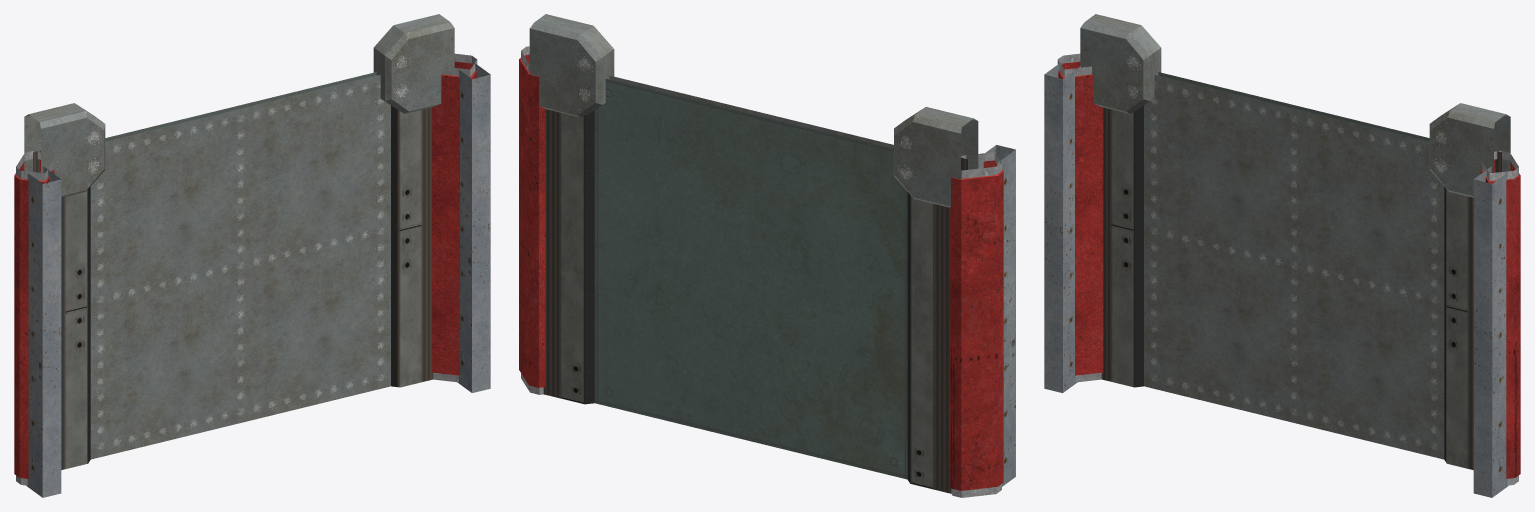
Rendered from Ob_PillarRedWall_RC.fbx.
The picture shows the model from 3 angles, left to right: view 1: azimuth 30°, elevation 25°; view 2: azimuth 150°, elevation 25°; view 3: azimuth 330°, elevation 25°; orthographic projection. The views are drawn at different scales.
Parts seen in each view (by area): view 1: Ob_PillarRedWall_RC; view 2: Ob_PillarRedWall_RC; view 3: Ob_PillarRedWall_RC.
Part boxes in pixels (x1,y1,x2,y2): Ob_PillarRedWall_RC: [14, 14, 490, 497]; Ob_PillarRedWall_RC: [519, 14, 1015, 497]; Ob_PillarRedWall_RC: [1044, 14, 1520, 497].
Bounding box in the file's own units: 1530 × 1131 × 207.
